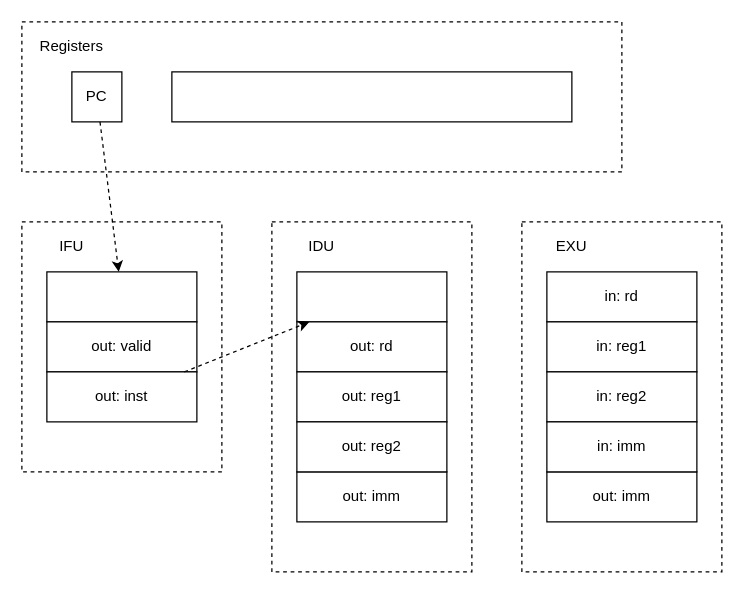
Image size: 744x594. Some labels were removed from this diagram. The shapes that lost their labels are listed below. From the top down, each one's centre as x and y in pixels, then its label:
point 371,96: x0-31
point 121,296: in: pc
point 371,296: in: inst
